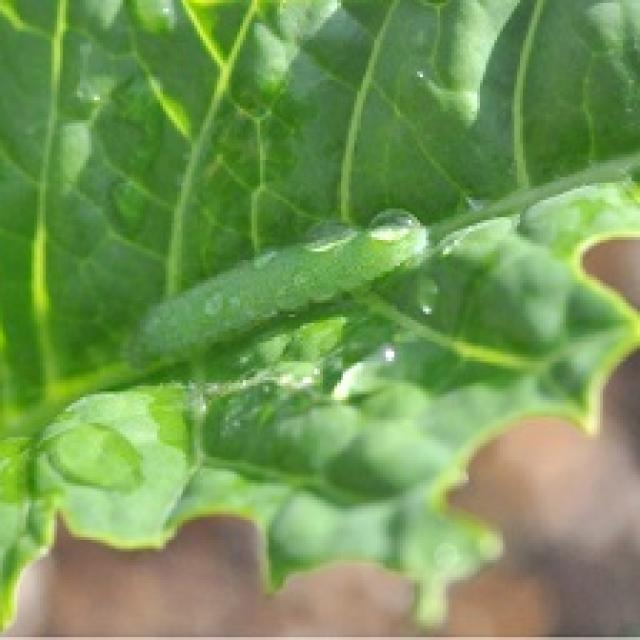Cabbage-worm: (106, 204, 449, 360)
